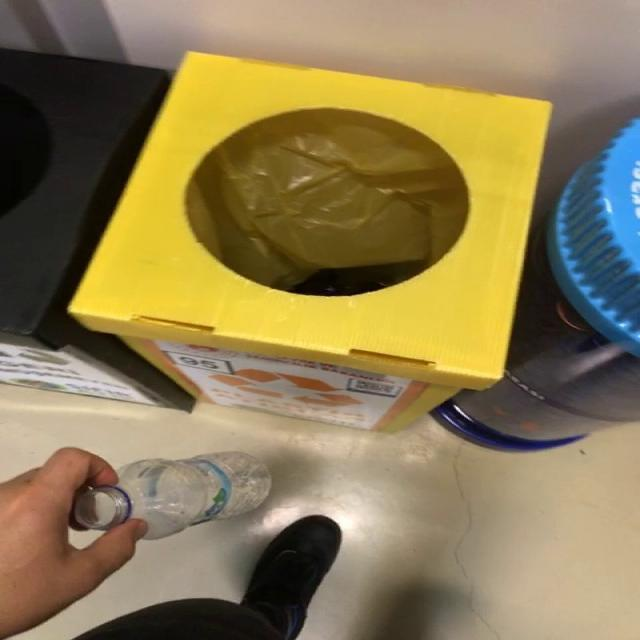Plastic: (73, 452, 271, 540)
